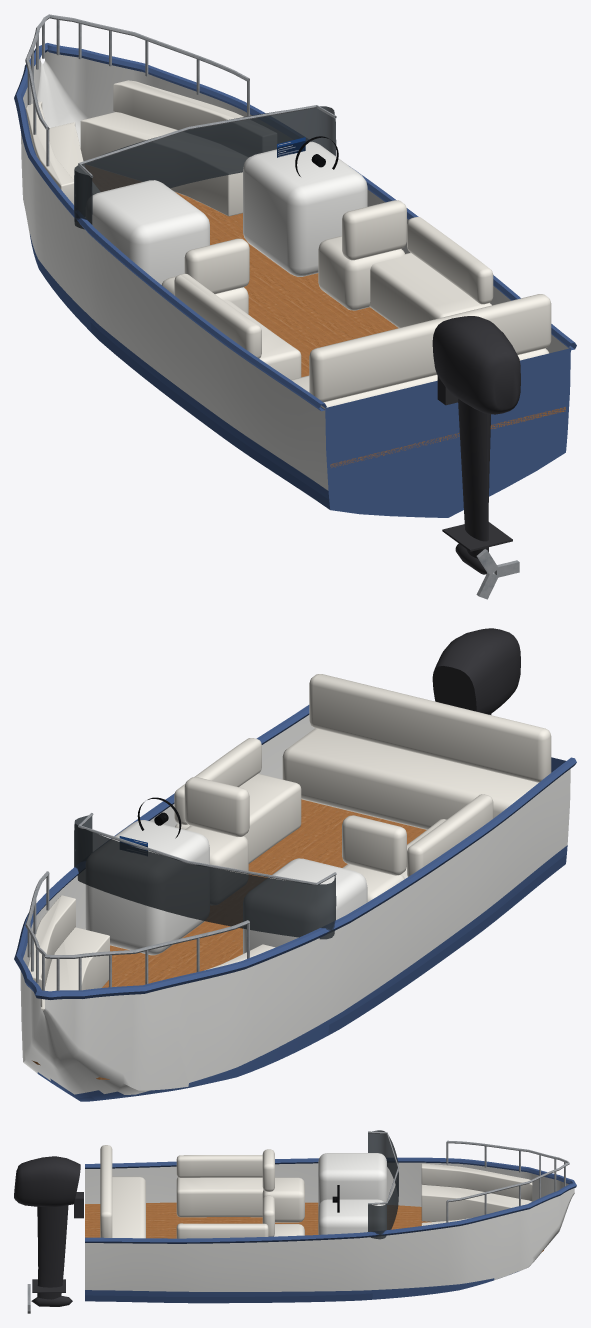
File: boat_speedboat_navy.gltf
The picture shows the model from 3 angles, top to bottom: view 1: azimuth 30°, elevation 25°; view 2: azimuth 150°, elevation 25°; view 3: azimuth 270°, elevation 25°; orthographic projection. The views are drawn at different scales.
Parts seen in each view (by area): view 1: boat_speedboat_navy; view 2: boat_speedboat_navy; view 3: boat_speedboat_navy.
Boxes of the visible parts, x1,y1,x2,y2 form: boat_speedboat_navy: [14, 14, 576, 599]; boat_speedboat_navy: [14, 628, 576, 1101]; boat_speedboat_navy: [14, 1130, 576, 1313].
Bounding box in the file's own units: 2.47 × 2.26 × 7.36.
10 materials, 4 textured.
